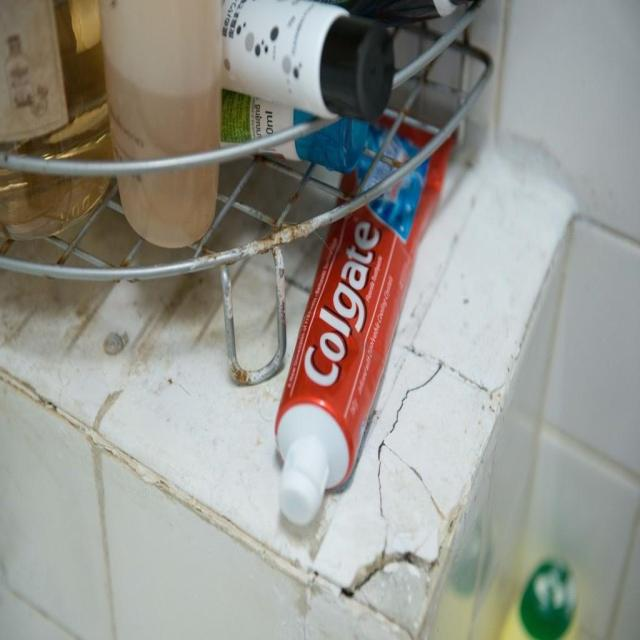Toothpaste: (271, 84, 466, 546)
